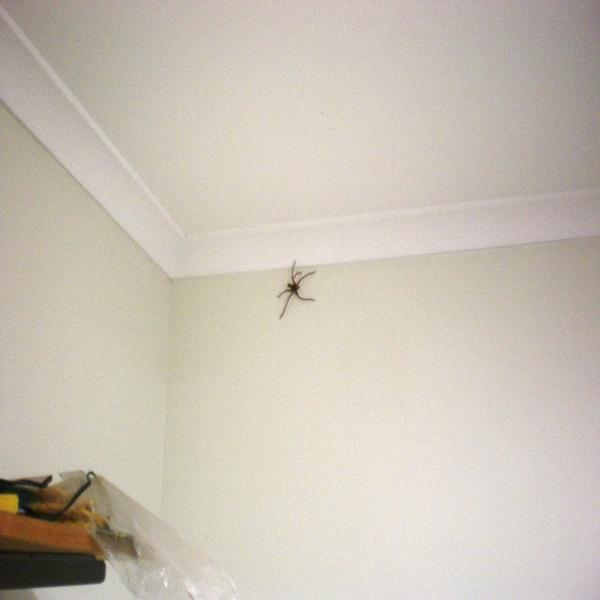Huntsman Spider: (270, 257, 320, 327)
